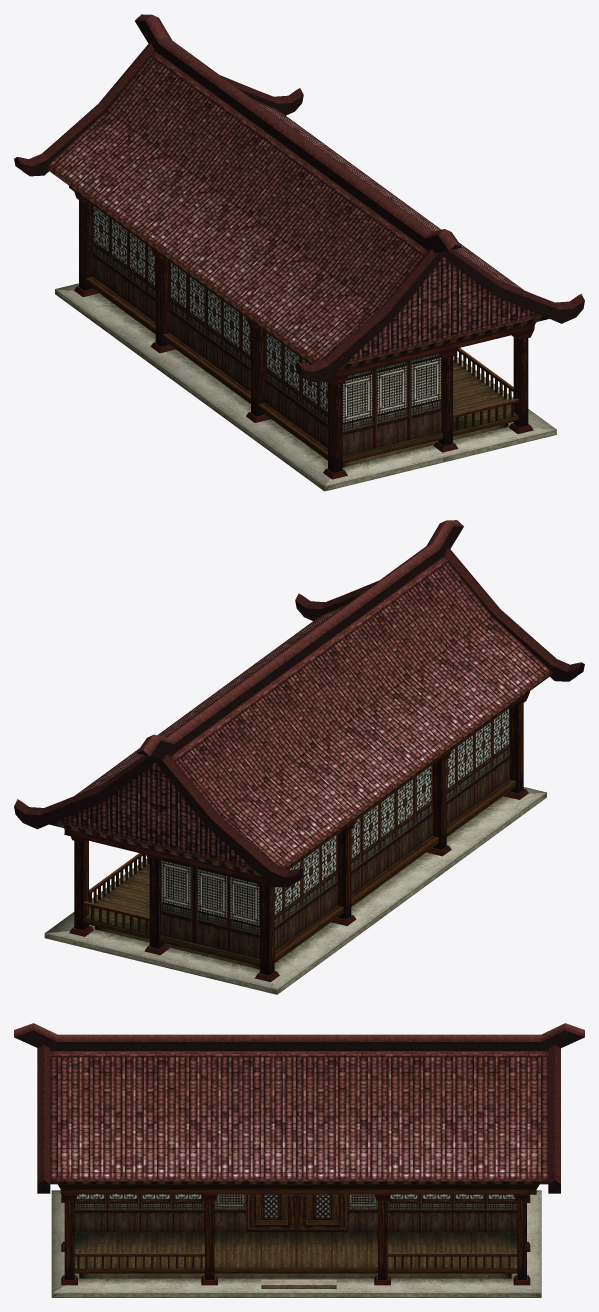
File: a1-033-guesthouse-02.glb
The picture shows the model from 3 angles, top to bottom: view 1: azimuth 30°, elevation 25°; view 2: azimuth 150°, elevation 25°; view 3: azimuth 270°, elevation 25°; orthographic projection. The views are drawn at different scales.
Visible parts, largest first — view 1: 033-02; view 2: 033-02; view 3: 033-02.
Part boxes in pixels (x1,y1,x2,y2): 033-02: (14,14,584,491); 033-02: (14,520,584,994); 033-02: (14,1023,584,1297).
Bounding box in the file's own units: 14.1 × 11.57 × 27.14.
Materials: 2 (2 with a texture image).
